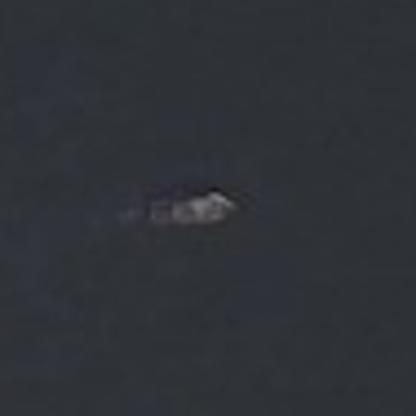ship: (138, 181, 245, 231)
